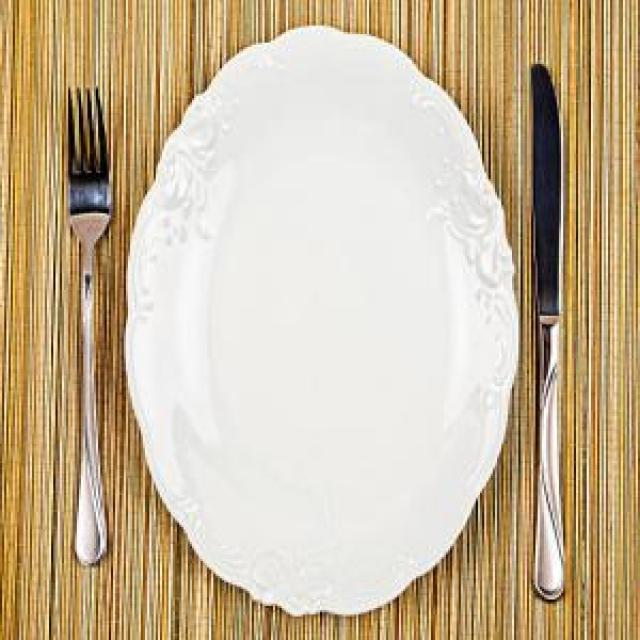knife: (520, 62, 575, 604)
